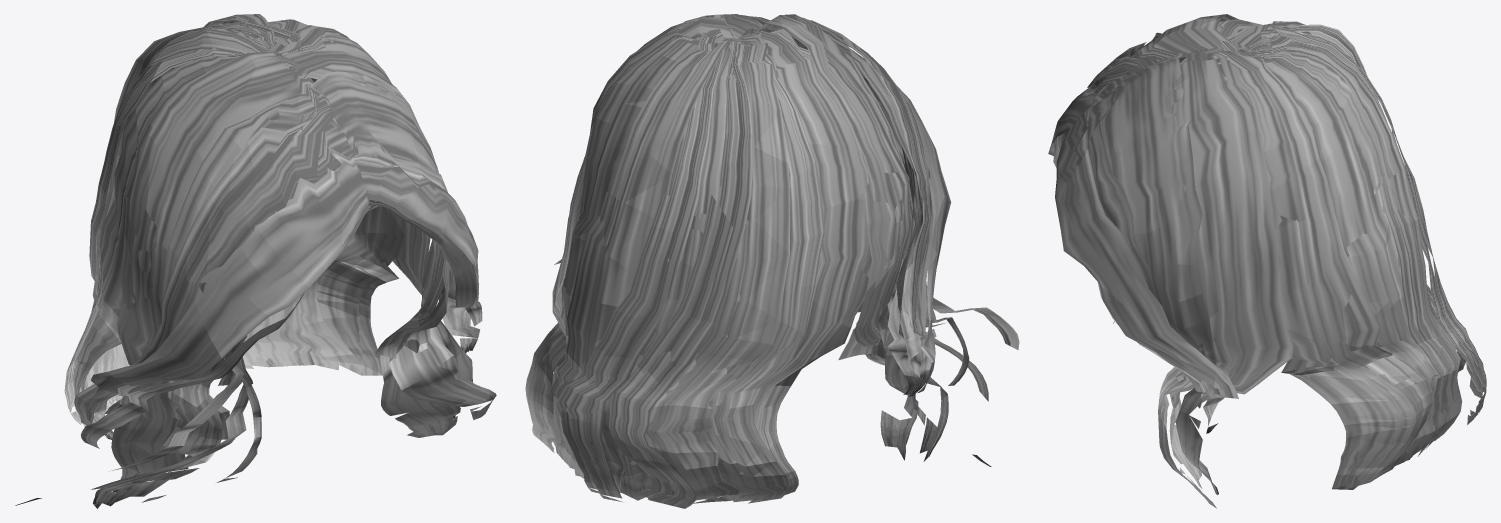
File: daz_hair_hazel_wave.glb
3 views of the same model, side by side, from view 1: azimuth 30°, elevation 25°; view 2: azimuth 150°, elevation 25°; view 3: azimuth 270°, elevation 25° (orthographic). The views are drawn at different scales.
Parts seen in each view (by area): view 1: daz_hair_hazel_wave; view 2: daz_hair_hazel_wave; view 3: daz_hair_hazel_wave.
Boxes of the visible parts, x1,y1,x2,y2 form: daz_hair_hazel_wave: [15, 14, 496, 508]; daz_hair_hazel_wave: [525, 14, 1019, 508]; daz_hair_hazel_wave: [1048, 14, 1486, 508].
Bounding box in the file's own units: 0.2808 × 0.2476 × 0.2491.
Materials: 1 (1 with a texture image).
